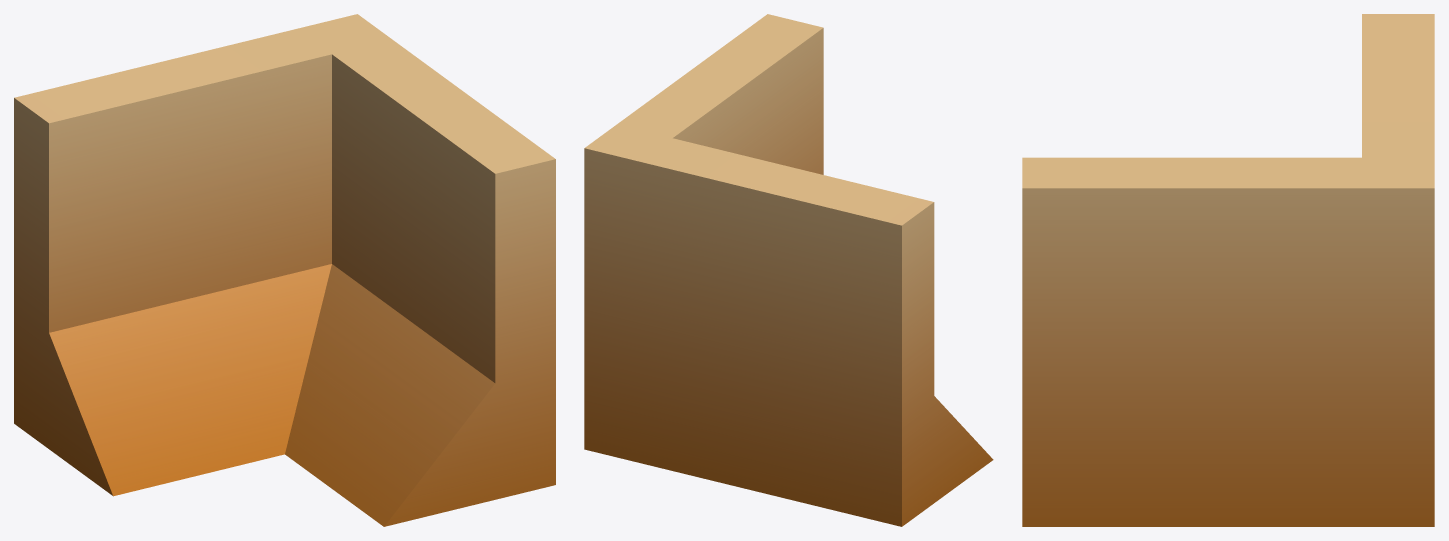
File: base_corner.fbx
The picture shows the model from 3 angles, left to right: view 1: azimuth 30°, elevation 25°; view 2: azimuth 150°, elevation 25°; view 3: azimuth 270°, elevation 25°; orthographic projection. The views are drawn at different scales.
Parts seen in each view (by area): view 1: base.corner; view 2: base.corner; view 3: base.corner.
Part boxes in pixels (box(x1,y1,x2,y2)): base.corner: box(14, 14, 555, 526); base.corner: box(584, 14, 993, 526); base.corner: box(1022, 14, 1434, 526).
Bounding box in the file's own units: 30 × 27.2 × 30.
